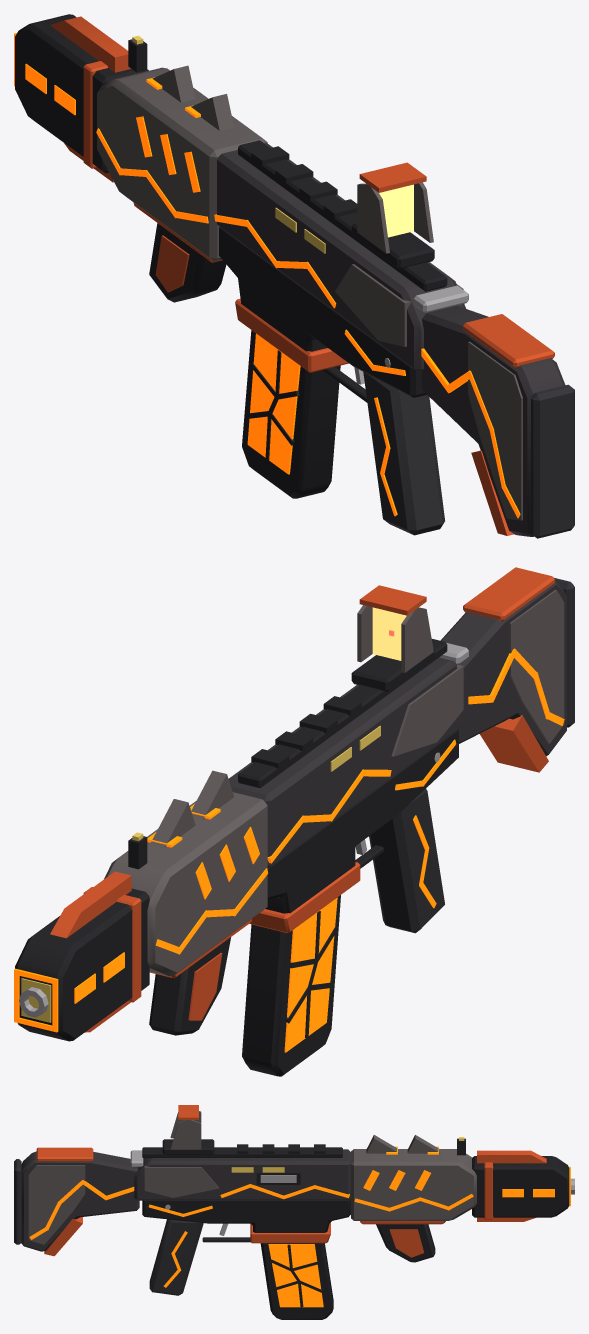
The model's file is InfernoAR.glb.
3 renders of one model, top to bottom at view 1: azimuth 30°, elevation 25°; view 2: azimuth 150°, elevation 25°; view 3: azimuth 270°, elevation 25°, orthographic. The views are drawn at different scales.
Parts seen in each view (by area): view 1: Handguard, Body, Lower, Grip, Stock, Shroud, Mag, ButtPad, StockPlate, MagLava, Shard, Rail (+15 smaller); view 2: Handguard, Body, Shroud, Lower, Mag, Stock, Grip, StockPlate, MagLava, Shard, Foregrip, Rail (+15 smaller); view 3: Handguard, Body, Lower, Shroud, Stock, StockPlate, Grip, MagLava, Mag, Shard, Rail, Foregrip (+16 smaller).
Part boxes in pixels (x1,y1,x2,y2): Handguard: (97, 67, 267, 261); Body: (217, 143, 465, 372); Lower: (219, 227, 426, 397); Grip: (363, 372, 444, 535); Stock: (422, 305, 565, 536); Shroud: (15, 14, 148, 173); Mag: (242, 330, 340, 498); ButtPad: (531, 384, 574, 538); StockPlate: (468, 341, 522, 520); MagLava: (247, 333, 300, 474); Shard: (335, 264, 463, 346); Rail: (238, 140, 447, 291); Handguard: (104, 792, 267, 976); Body: (228, 657, 468, 867); Shroud: (15, 888, 149, 1041); Lower: (265, 729, 458, 913); Mag: (242, 895, 340, 1076); Stock: (440, 580, 566, 756); Grip: (369, 789, 444, 933); StockPlate: (509, 589, 564, 743); MagLava: (284, 897, 337, 1052); Shard: (391, 664, 463, 756); Foregrip: (149, 937, 230, 1035); Rail: (238, 639, 447, 787); Handguard: (351, 1149, 476, 1220); Body: (134, 1149, 350, 1200); Lower: (142, 1198, 350, 1232); Shroud: (472, 1156, 569, 1217); Stock: (21, 1151, 139, 1251); StockPlate: (28, 1165, 85, 1244); Grip: (149, 1219, 203, 1295); MagLava: (268, 1244, 323, 1307); Mag: (260, 1243, 333, 1319); Shard: (144, 1166, 219, 1197); Rail: (142, 1147, 342, 1158); Foregrip: (376, 1224, 435, 1262).
Size of the model in its own units: 0.29 by 1.76 by 4.35.
